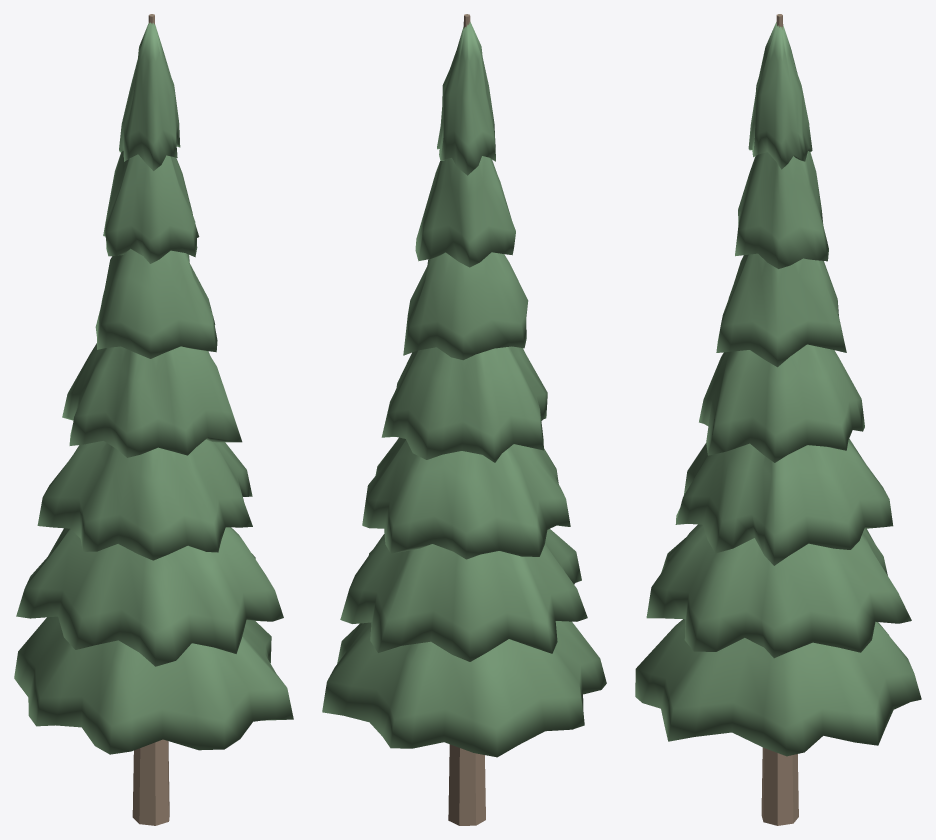
Rendered from tree_spruce.glb.
The picture shows the model from 3 angles, left to right: view 1: azimuth 30°, elevation 25°; view 2: azimuth 150°, elevation 25°; view 3: azimuth 270°, elevation 25°; orthographic projection.
Parts seen in each view (by area): view 1: tree_spruce; view 2: tree_spruce; view 3: tree_spruce.
Part boxes in pixels (bbox=[...]): tree_spruce: bbox=[14, 14, 293, 825]; tree_spruce: bbox=[322, 14, 606, 825]; tree_spruce: bbox=[635, 14, 921, 825].
Bounding box in the file's own units: 3.43 × 11.01 × 3.56.
